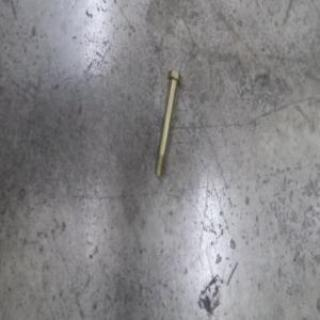Bolttrack_idkeyframe: (152, 67, 182, 179)
